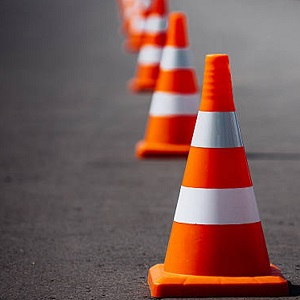traffic cone: (147, 54, 292, 297), (135, 11, 228, 160)
